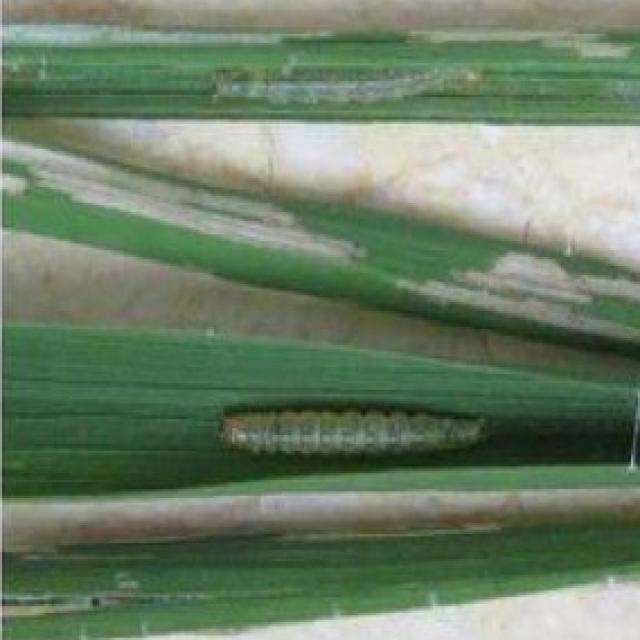rice leaf roller: (221, 410, 482, 453), (214, 68, 457, 106)
